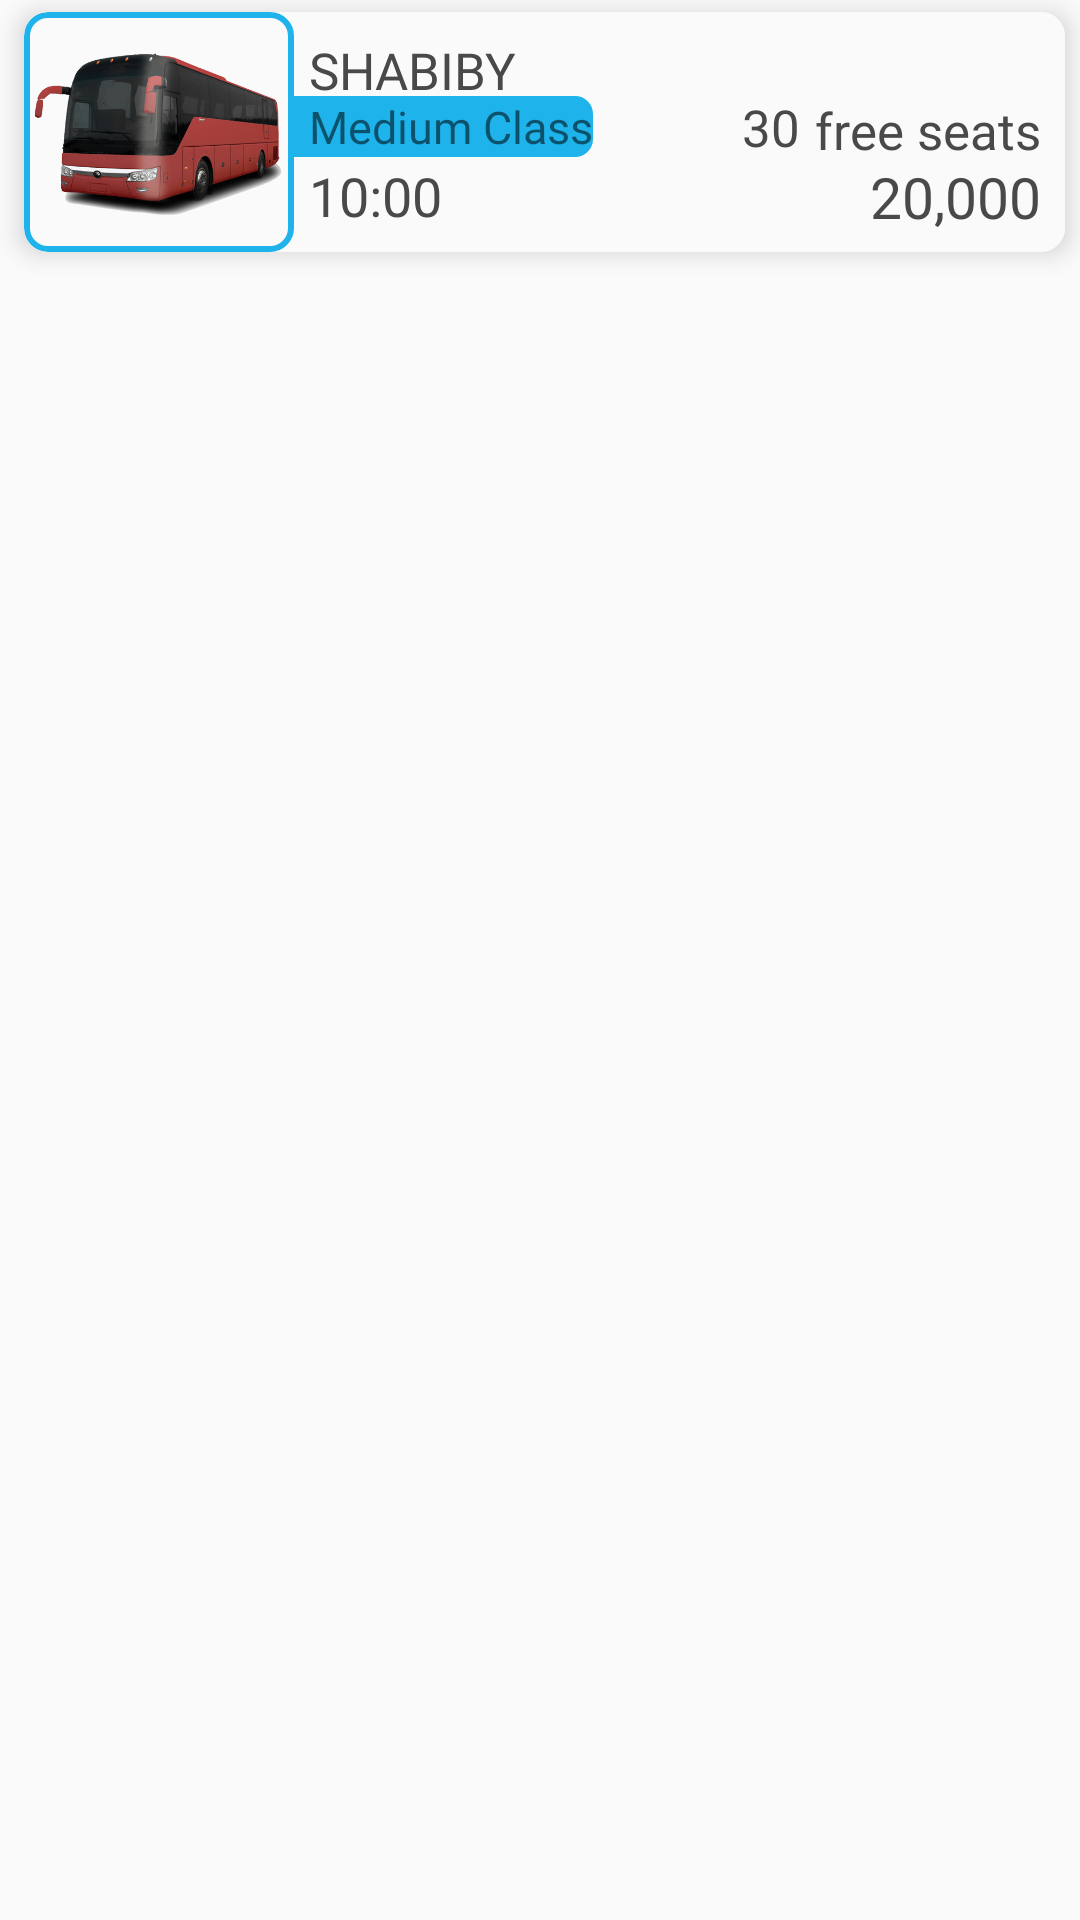

Screen size 1080x1920. Icon name, then its center in pixels as [x,y]:
buss: [158,133]
